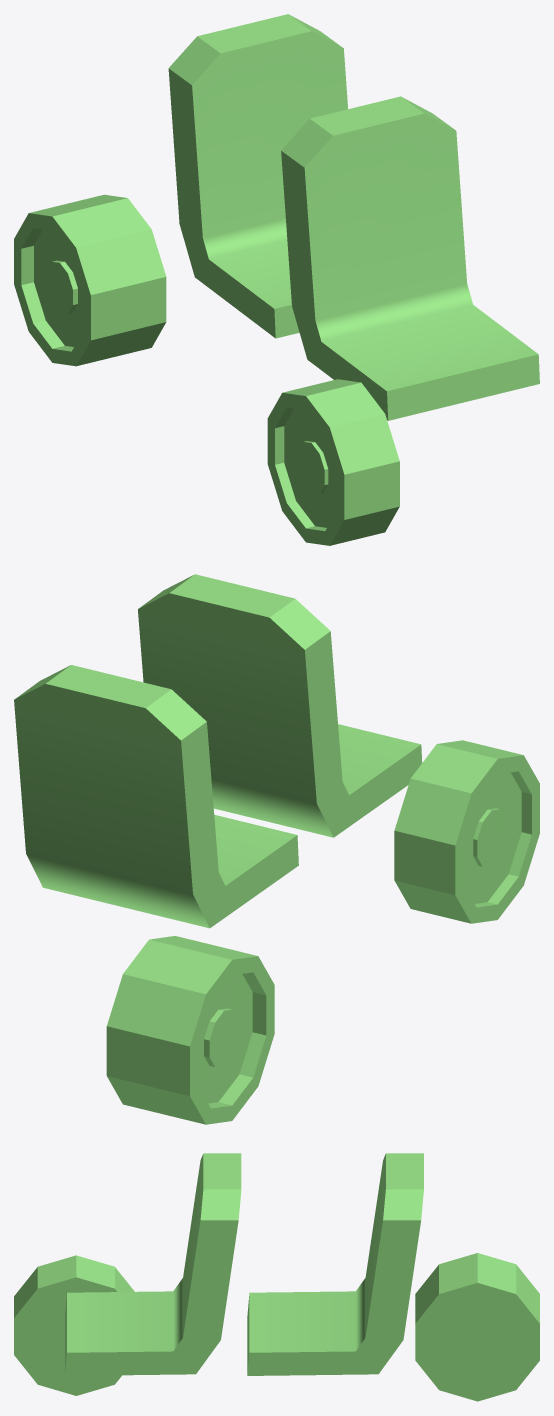
The picture shows the model from 3 angles, top to bottom: view 1: azimuth 30°, elevation 25°; view 2: azimuth 150°, elevation 25°; view 3: azimuth 270°, elevation 25°; orthographic projection. The views are drawn at different scales.
Visible parts, largest first — view 1: pCylinder5; view 2: pCylinder5; view 3: pCylinder5.
Boxes of the visible parts, <box> form: pCylinder5: <box>14,14,539,545</box>; pCylinder5: <box>14,574,539,1124</box>; pCylinder5: <box>14,1153,539,1401</box>.
Bounding box in the file's own units: 2.31 × 3.07 × 5.57.
